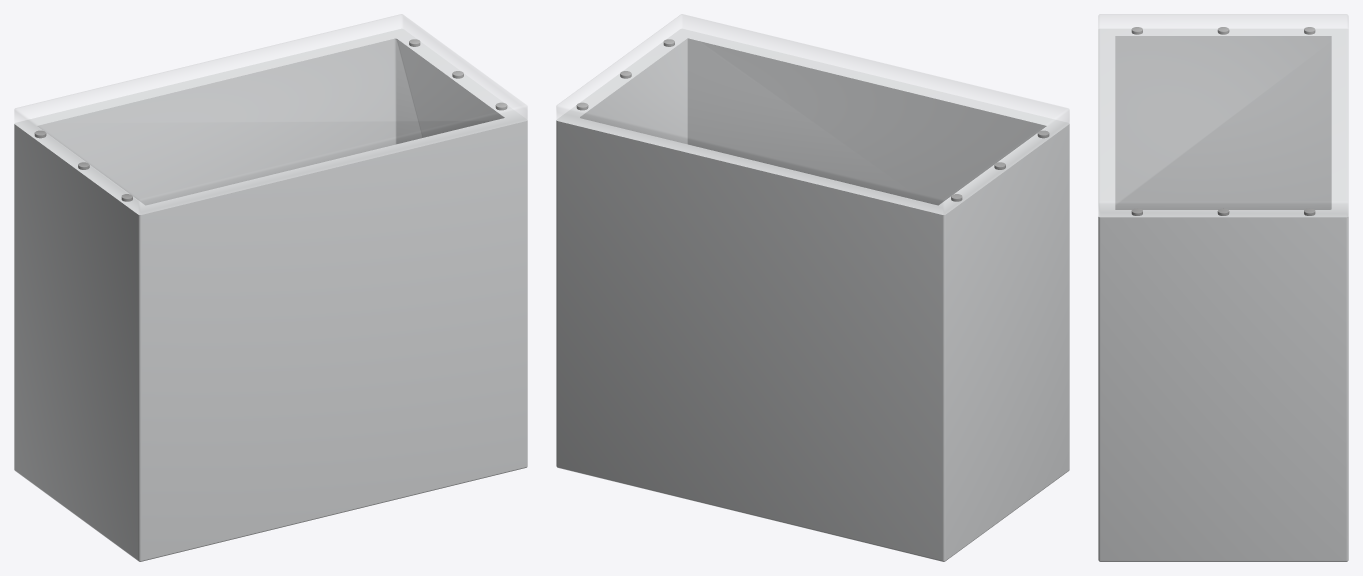
File: acrylic-case-tcg-booster-box.glb
3 renders of one model, left to right at view 1: azimuth 30°, elevation 25°; view 2: azimuth 150°, elevation 25°; view 3: azimuth 270°, elevation 25°, orthographic.
Parts seen in each view (by area): view 1: Cube, Cube.002; view 2: Cube, Cube.002; view 3: Cube, Cube.002.
Part boxes in pixels (bbox=[...]): Cube: bbox=[14, 28, 527, 561]; Cube.002: bbox=[14, 14, 527, 214]; Cube: bbox=[556, 28, 1069, 561]; Cube.002: bbox=[556, 14, 1069, 214]; Cube: bbox=[1098, 28, 1348, 561]; Cube.002: bbox=[1098, 14, 1348, 216].
Bounding box in the file's own units: 0.157 × 0.14 × 0.088.
Materials: 4 (3 with a texture image).
